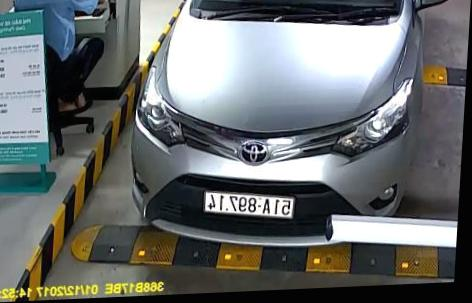License_Plate: (200, 189, 301, 222)
